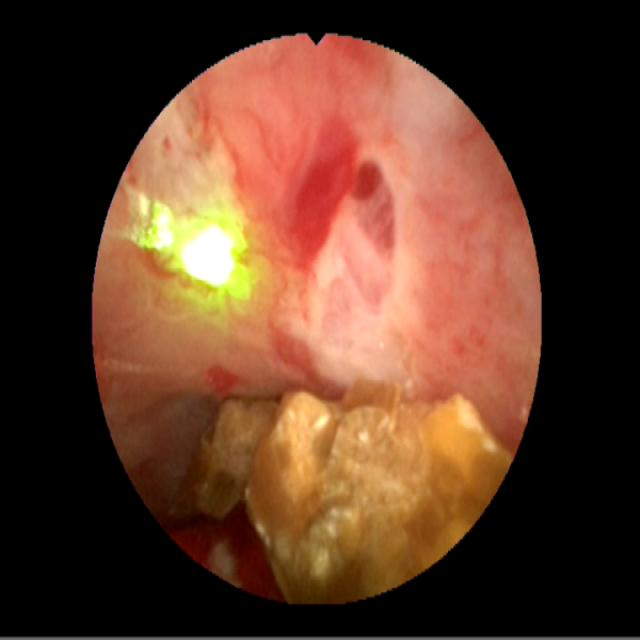stone: (175, 381, 504, 597), (211, 543, 235, 582)
tissue: (101, 39, 529, 494)
